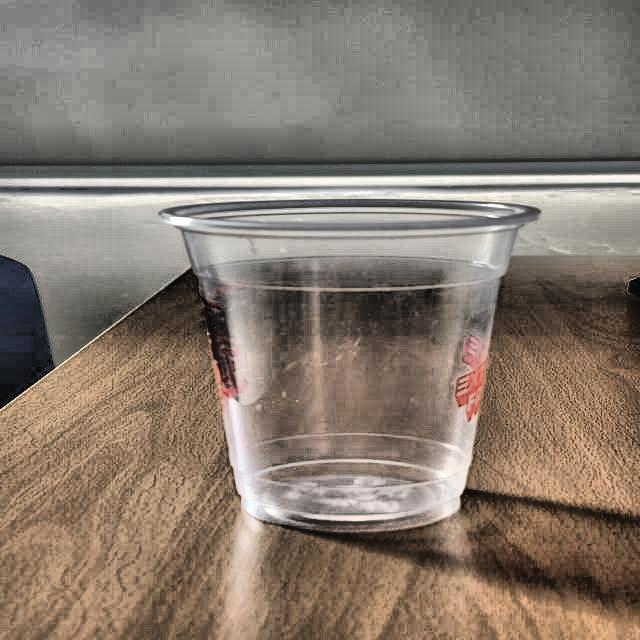plastic cup: (159, 198, 545, 536)
